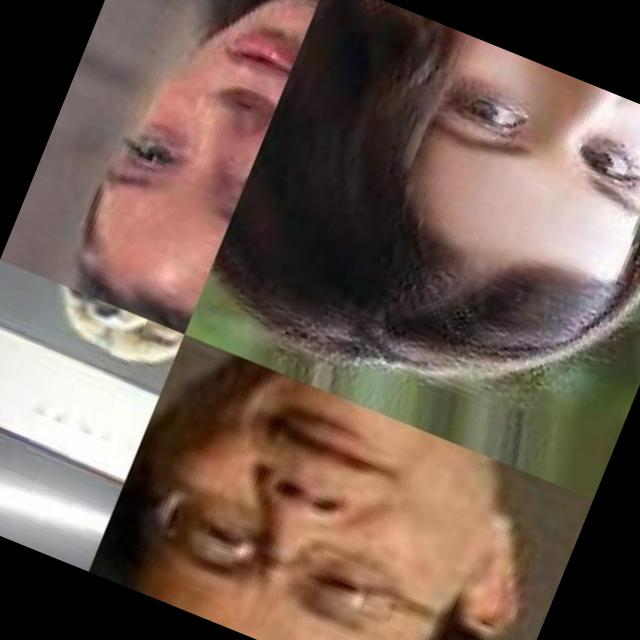bareface: (103, 345, 565, 640)
